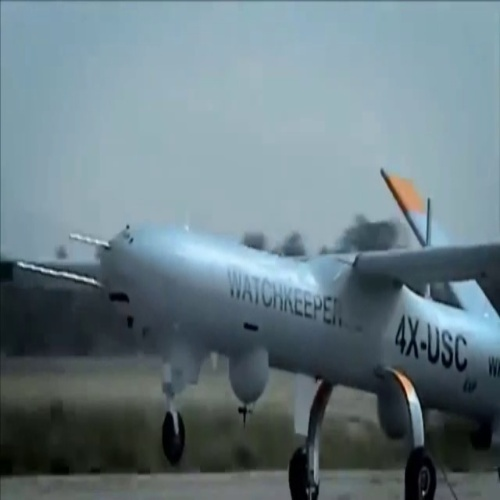uav: (10, 170, 498, 500)
